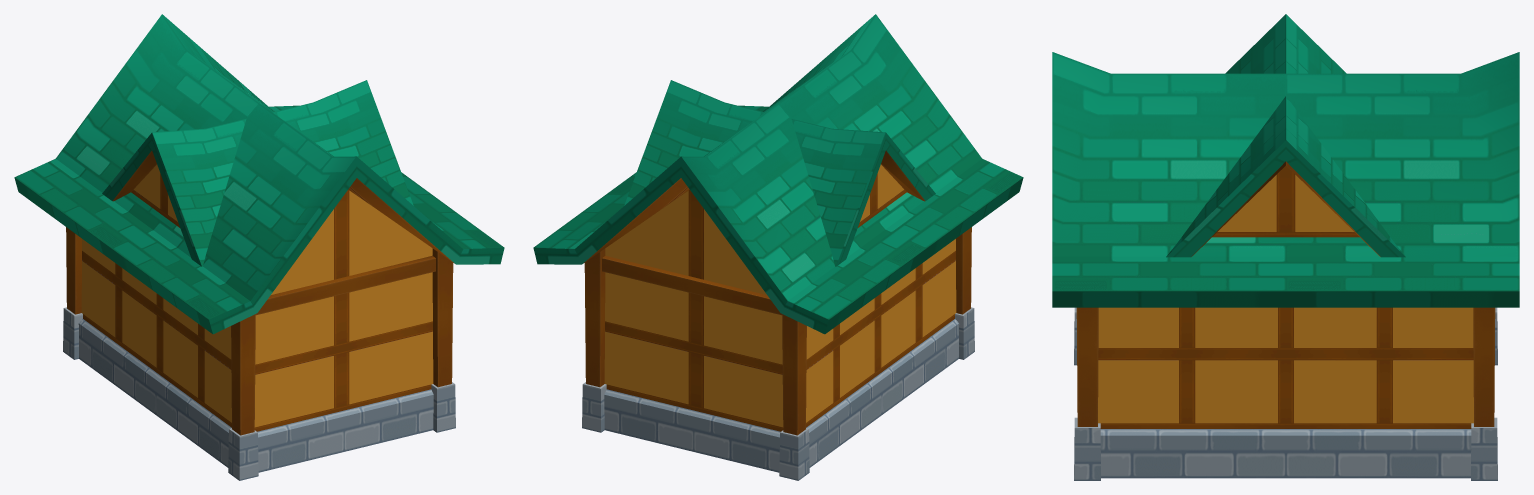
Rendered from HOS0410009.fbx.
The picture shows the model from 3 angles, left to right: view 1: azimuth 30°, elevation 25°; view 2: azimuth 150°, elevation 25°; view 3: azimuth 270°, elevation 25°; orthographic projection. The views are drawn at different scales.
Visible parts, largest first — view 1: smHOS0410009; view 2: smHOS0410009; view 3: smHOS0410009.
Boxes of the visible parts, x1,y1,x2,y2 form: smHOS0410009: [14, 14, 504, 480]; smHOS0410009: [533, 14, 1023, 480]; smHOS0410009: [1052, 14, 1519, 480].
Bounding box in the file's own units: 384 × 378 × 438.
Materials: 1 (1 with a texture image).
